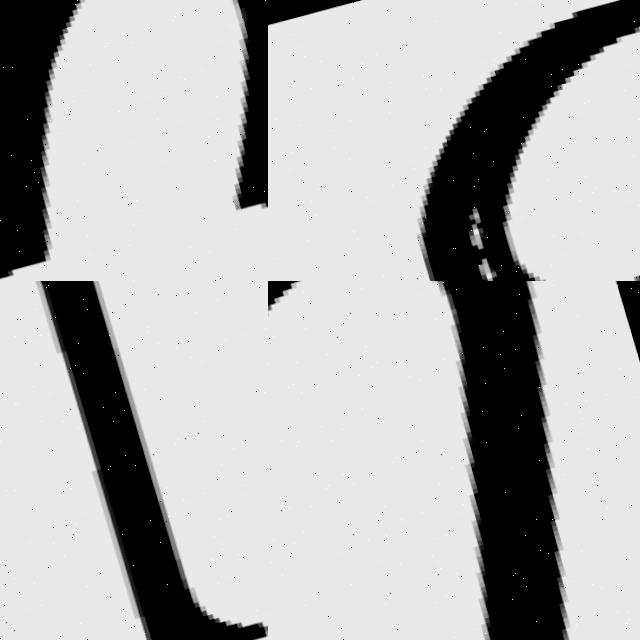5: (268, 0, 640, 281)
L: (0, 281, 268, 640)
U: (268, 281, 640, 640)
V: (0, 0, 268, 281)
